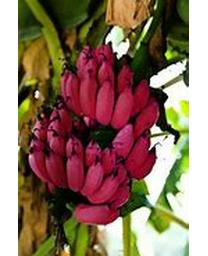banana: (27, 41, 162, 227)
